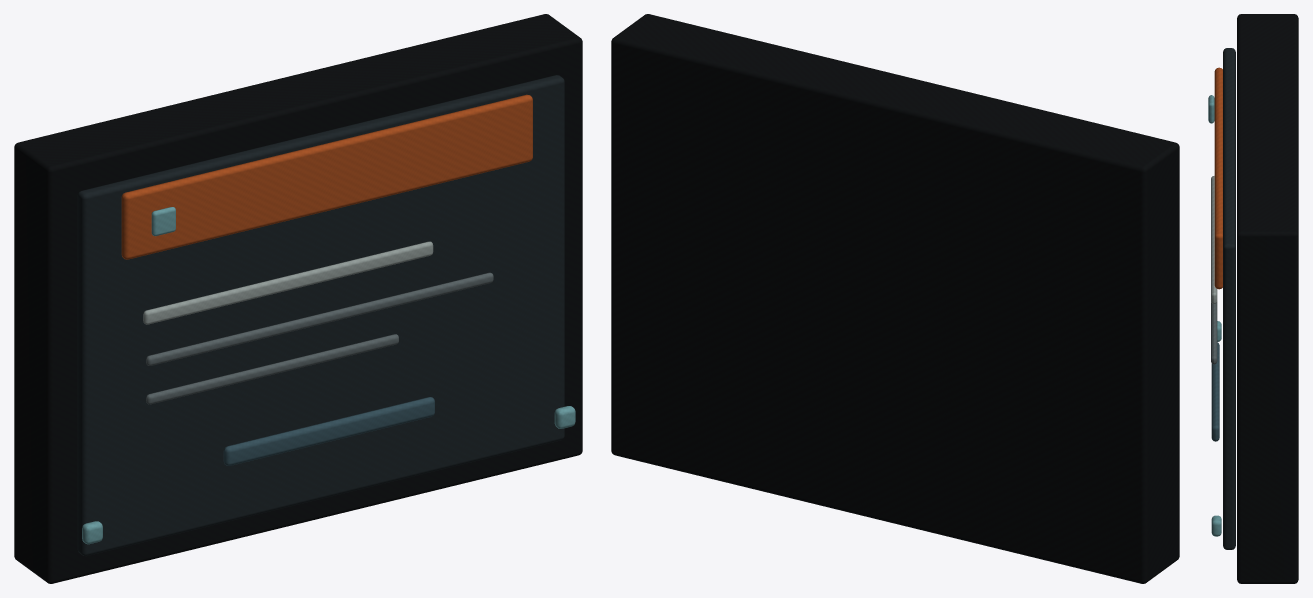
File: WallSign.fbx
3 views of the same model, side by side, from view 1: azimuth 30°, elevation 25°; view 2: azimuth 150°, elevation 25°; view 3: azimuth 270°, elevation 25° (orthographic). The views are drawn at different scales.
Visible parts, largest first — view 1: WallSign_Mesh; view 2: WallSign_Mesh; view 3: WallSign_Mesh.
Part boxes in pixels (left/top/right/bottom): WallSign_Mesh: left=14, top=14, right=582, bottom=583; WallSign_Mesh: left=611, top=14, right=1179, bottom=583; WallSign_Mesh: left=1208, top=14, right=1298, bottom=583.
Size of the model in its own units: 102 by 76 by 17.6.
Materials: 7 (7 with a texture image).
